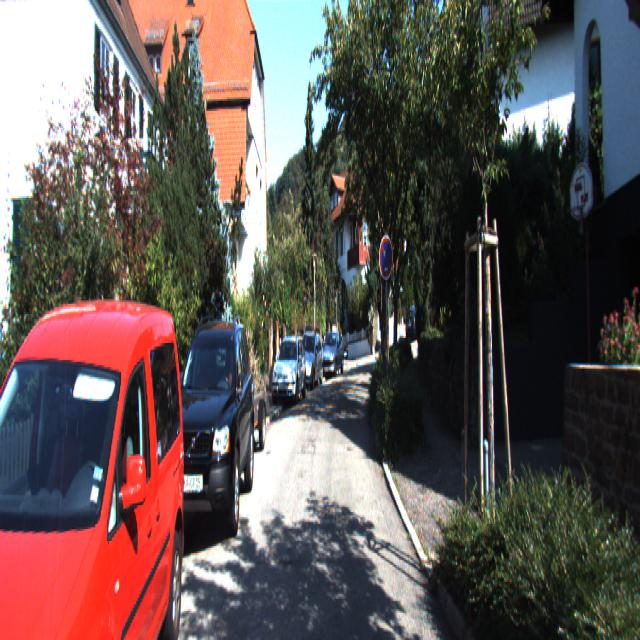Car: (0, 254, 190, 638), (160, 312, 256, 567), (215, 377, 270, 464), (270, 332, 308, 412), (296, 328, 324, 394), (321, 322, 345, 373), (406, 306, 424, 342)
